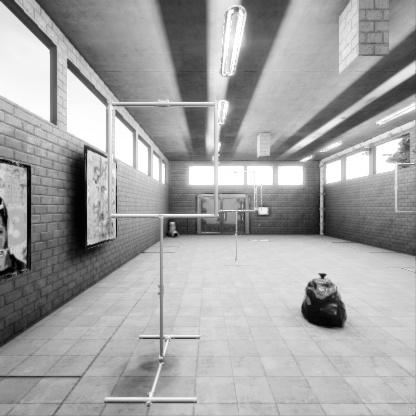gate: (114, 203, 224, 312), (218, 206, 257, 245), (398, 205, 416, 255), (256, 206, 262, 232)
